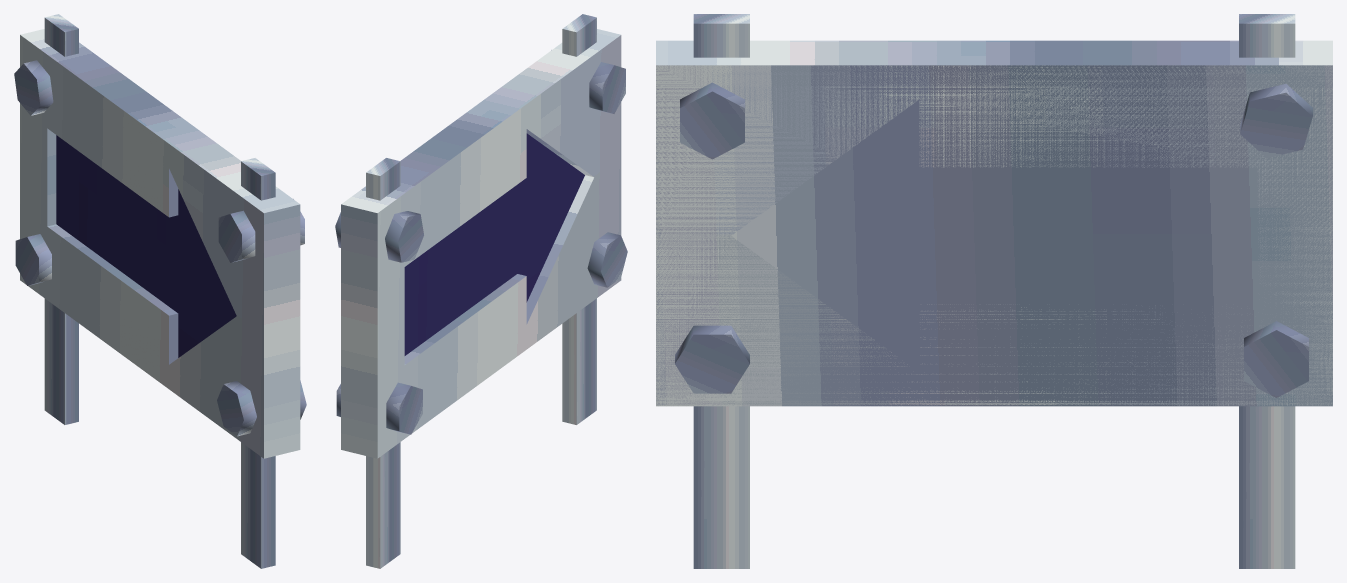
File: riccoarrow.dae
3 renders of one model, left to right at view 1: azimuth 30°, elevation 25°; view 2: azimuth 150°, elevation 25°; view 3: azimuth 270°, elevation 25°, orthographic. The views are drawn at different scales.
Visible parts, largest first — view 1: n0b0; view 2: n0b0; view 3: n0b0.
Boxes of the visible parts, <box> form: n0b0: <box>14,14,306,568</box>; n0b0: <box>335,14,627,568</box>; n0b0: <box>656,14,1332,568</box>.
Bounding box in the file's own units: 68.89 × 411 × 463.
